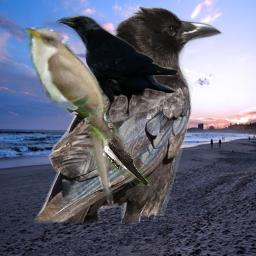Crow: (34, 5, 224, 223), (56, 14, 178, 125)
Cuckoo: (18, 22, 118, 208)
Swallow: (101, 122, 150, 186)
